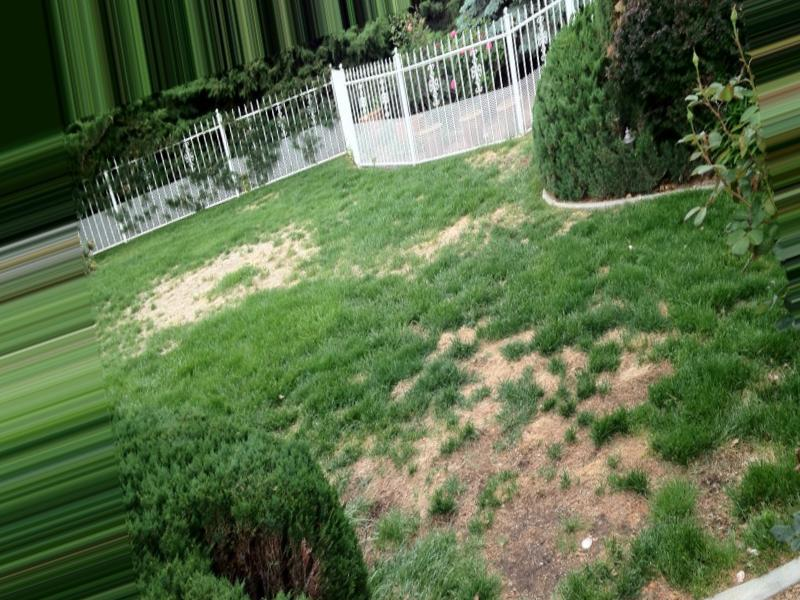patch: (478, 361, 649, 479), (375, 477, 603, 550), (228, 250, 298, 294), (149, 277, 206, 320), (435, 224, 465, 237)
